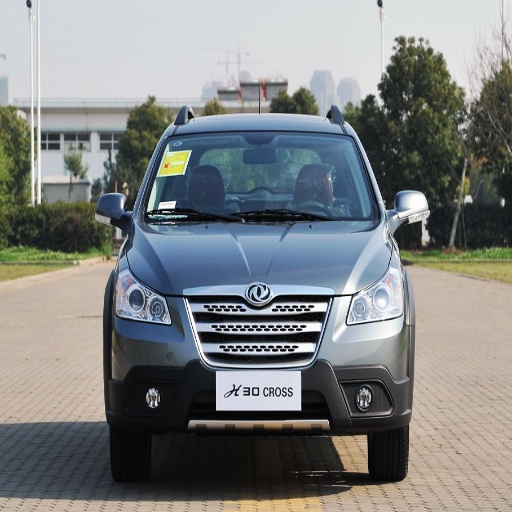front_bumper: (104, 284, 410, 434)
front_right_light: (114, 269, 173, 324)
hood: (127, 221, 391, 294)
left_mirror: (392, 190, 430, 230)
